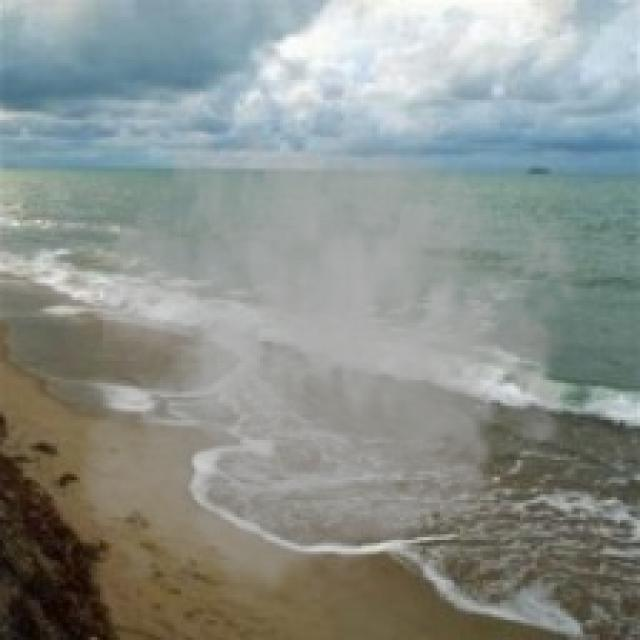smoke: (66, 83, 597, 614)
